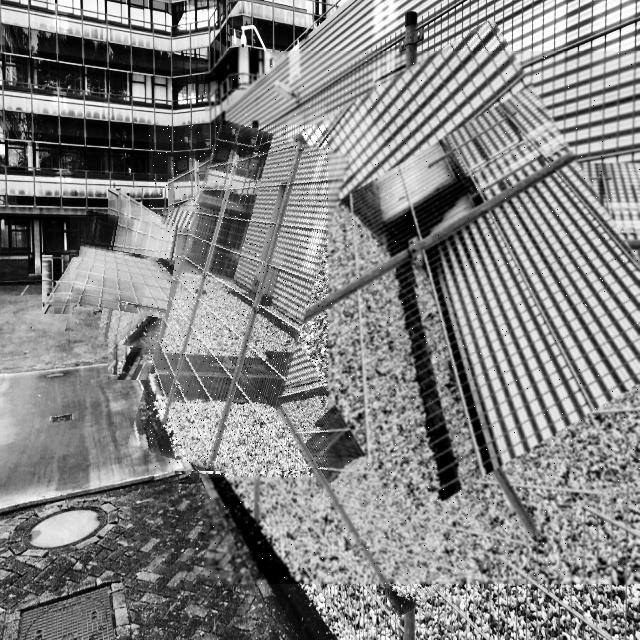fences: (205, 51, 640, 584), (149, 125, 328, 477), (70, 216, 206, 352)
